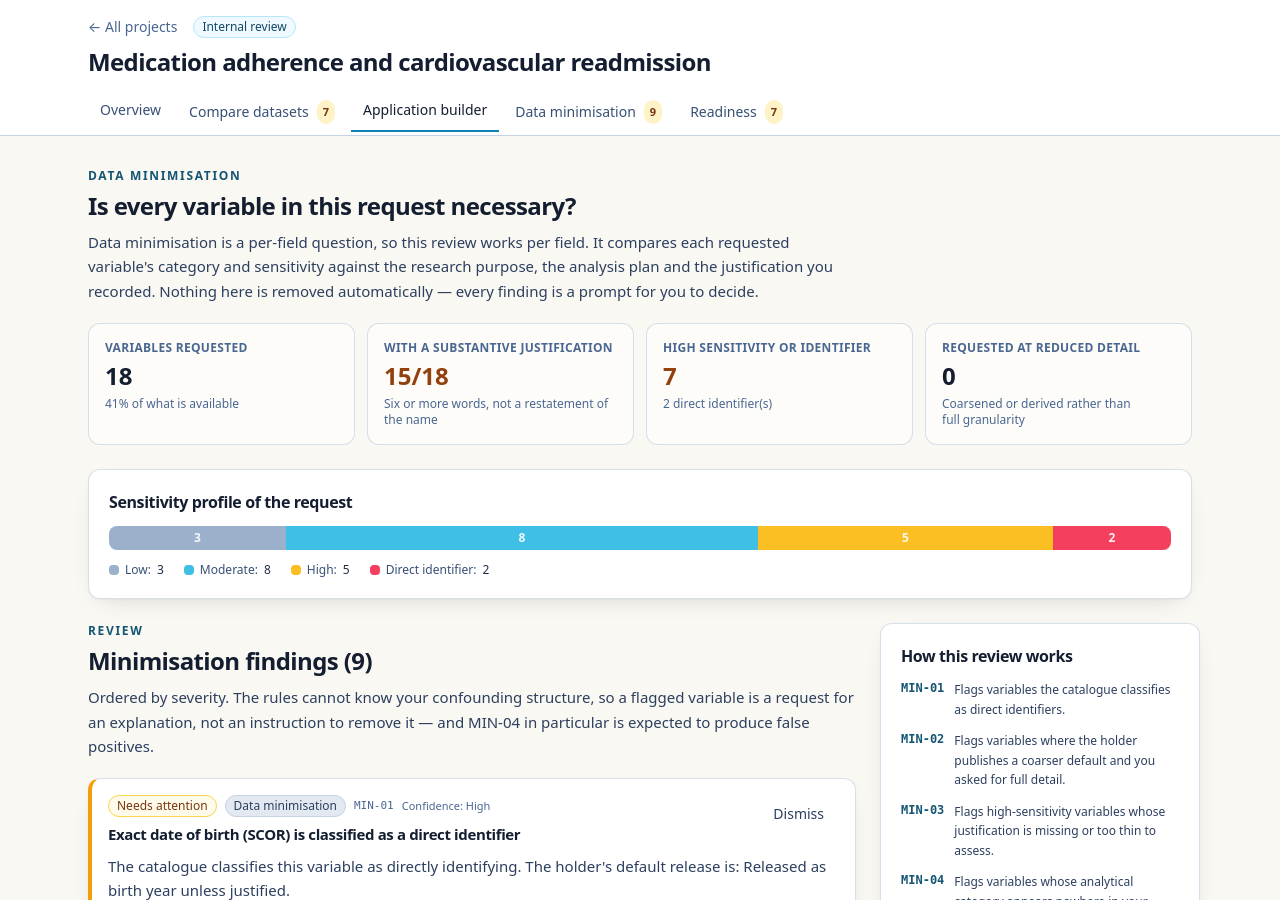
Test: minimisation review › removes a finding from the list once dismissed and records it
Click the button "Dismiss": (799, 814) [758, 795, 839, 833]
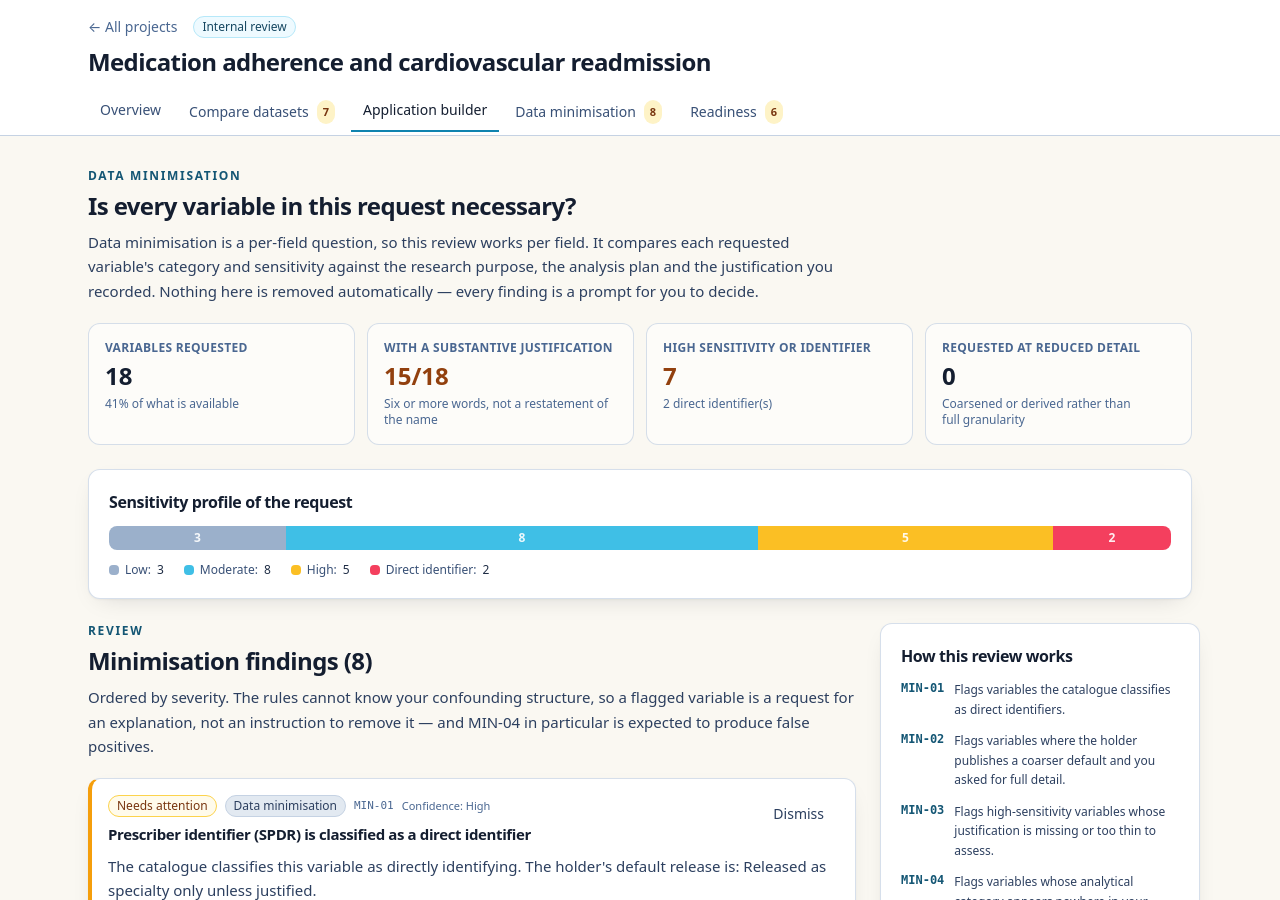
Expected: the heading "Exact date of birth (SCOR) is classified as a direct identifier" is gone
